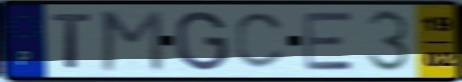3: (363, 8, 412, 75)
C: (233, 10, 289, 72)
E: (301, 10, 358, 72)
G: (173, 9, 231, 73)
M: (99, 8, 166, 73)
T: (49, 11, 96, 71)
